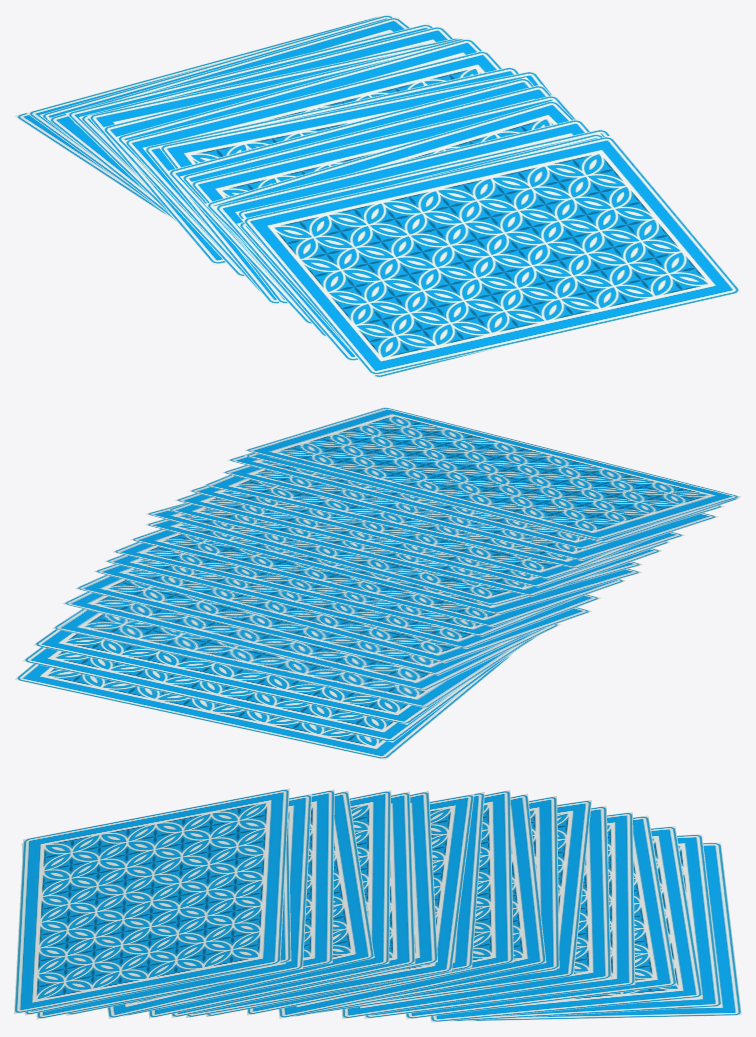
3 views of the same model, one above another, from view 1: azimuth 30°, elevation 25°; view 2: azimuth 150°, elevation 25°; view 3: azimuth 270°, elevation 25° (orthographic). The views are drawn at different scales.
Parts seen in each view (by area): view 1: Cards; view 2: Cards; view 3: Cards.
Part boxes in pixels (x1,y1,x2,y2): Cards: [14, 14, 741, 378]; Cards: [14, 407, 741, 759]; Cards: [14, 788, 741, 1022].
Bounding box in the file's own units: 1.59 × 0.2392 × 2.67.
1 material, 1 textured.
